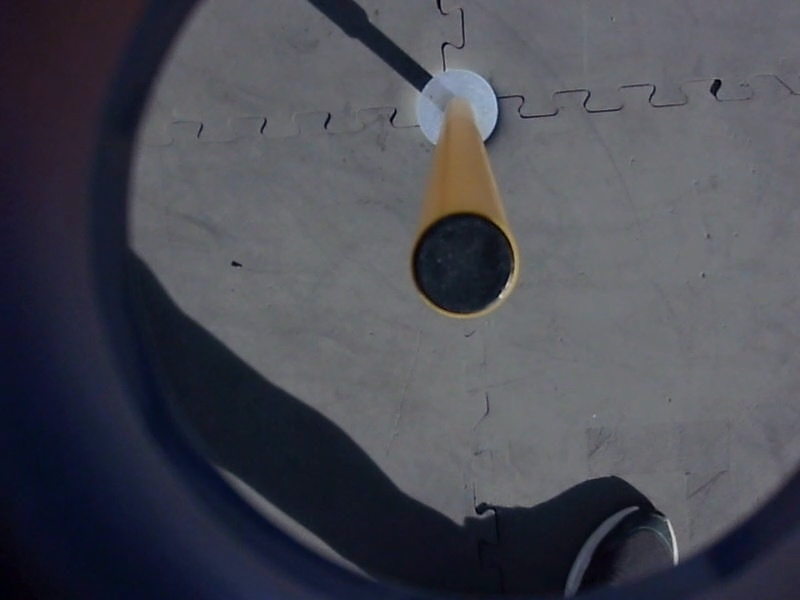tip: (405, 205, 526, 323)
